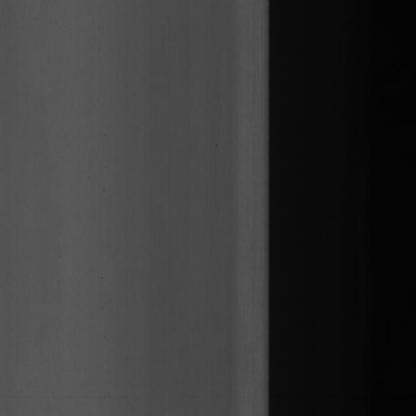inclusion: (212, 139, 221, 154)
